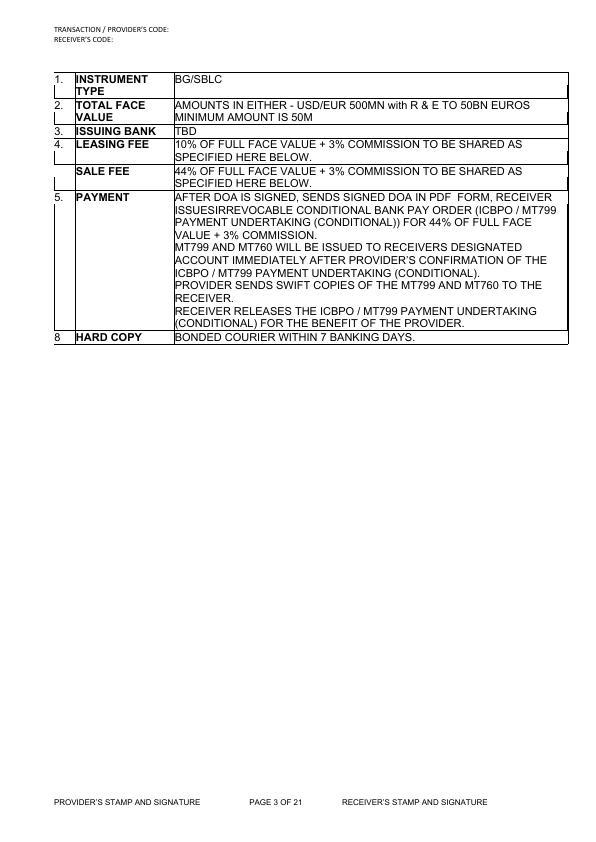table: (53, 72, 570, 345)
text: (51, 23, 170, 44), (51, 795, 201, 808), (339, 796, 489, 808), (247, 795, 305, 808)
